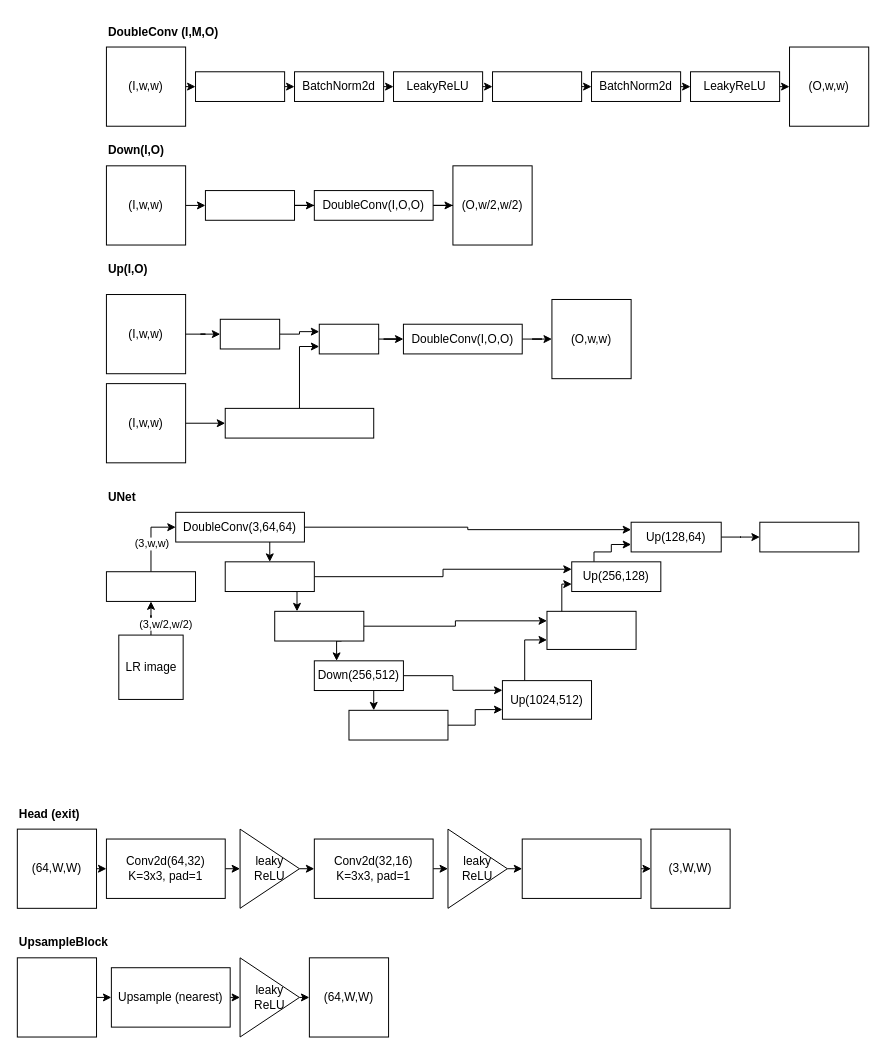
Some shapes in this 886 by 1054 pixel diagram are drawn without their labels. Each missing label, with the centre of its shape:
"(64,W/2,W/2)" belongs at pixel 56 997.
"Concat" belongs at pixel 348 338.
"Conv2d(16,3) K=3x3, pad=1" belongs at pixel 581 868.
"Conv2d(I,M)" belongs at pixel 240 86.
"Conv2d(M,O)" belongs at pixel 537 86.
"ConvTranspose2D(I,I/2) ksize=2, stride=2" belongs at pixel 299 422.
"Down(128,256)" belongs at pixel 319 625.
"Down(512,1024)" belongs at pixel 398 724.
"Down(64,128)" belongs at pixel 269 576.
"MaxPool2d(2)" belongs at pixel 249 205.
"OutConv(64,3)" belongs at pixel 809 536.
"Pad" belongs at pixel 249 333.
"Up(512,256)" belongs at pixel 591 629.
"Upscale (bicubic)" belongs at pixel 150 586.
